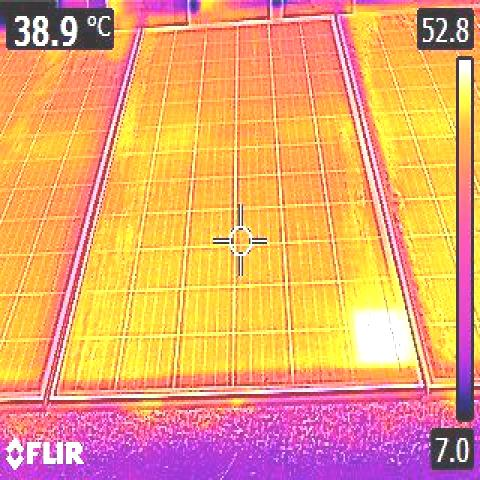fault: (356, 309, 409, 364)
